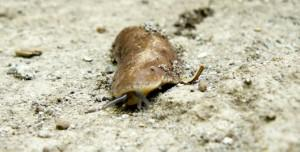slug: (89, 14, 204, 113)
